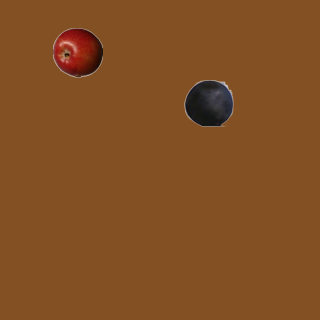Apple Braeburn: (52, 27, 102, 77)
Grape Blue: (183, 77, 233, 127)
